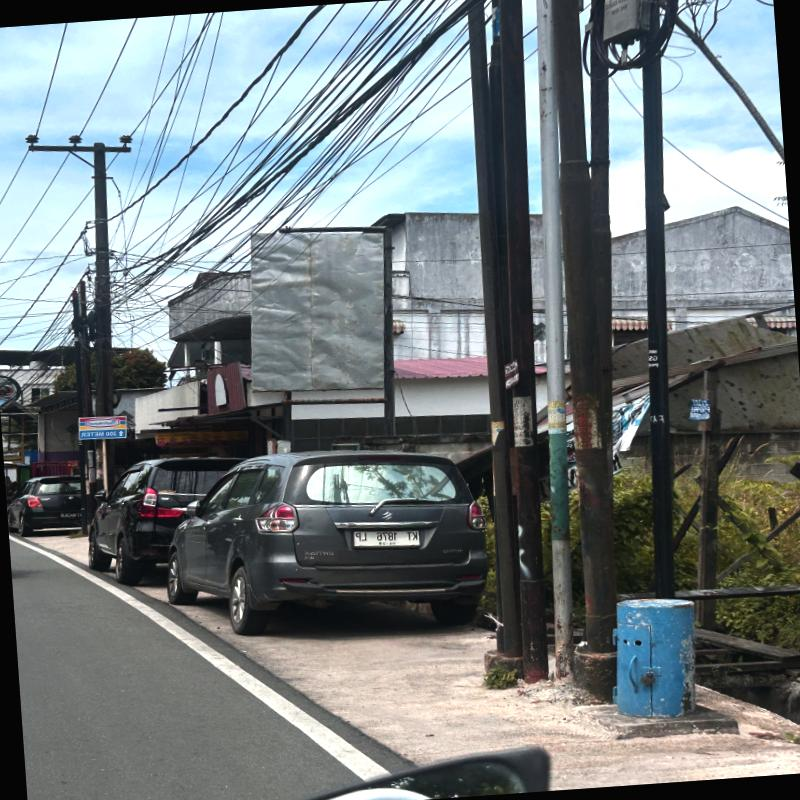license plate on a car: (353, 530, 419, 546), (60, 512, 80, 518)
